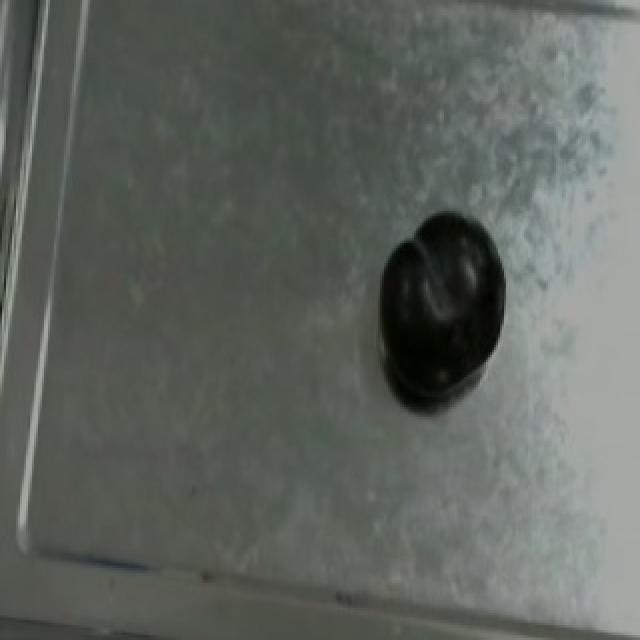Fruit: (362, 193, 522, 410)
